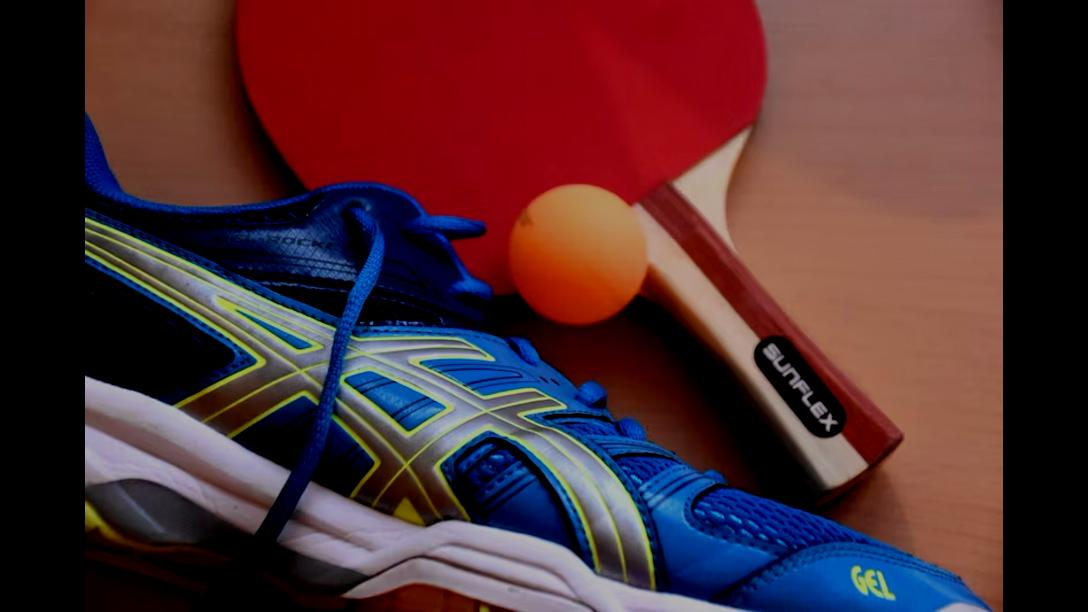Table-Tennis-Ball: (509, 183, 645, 321)
